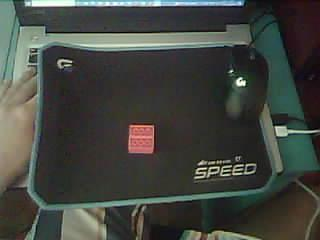lego: (128, 125, 155, 154)
